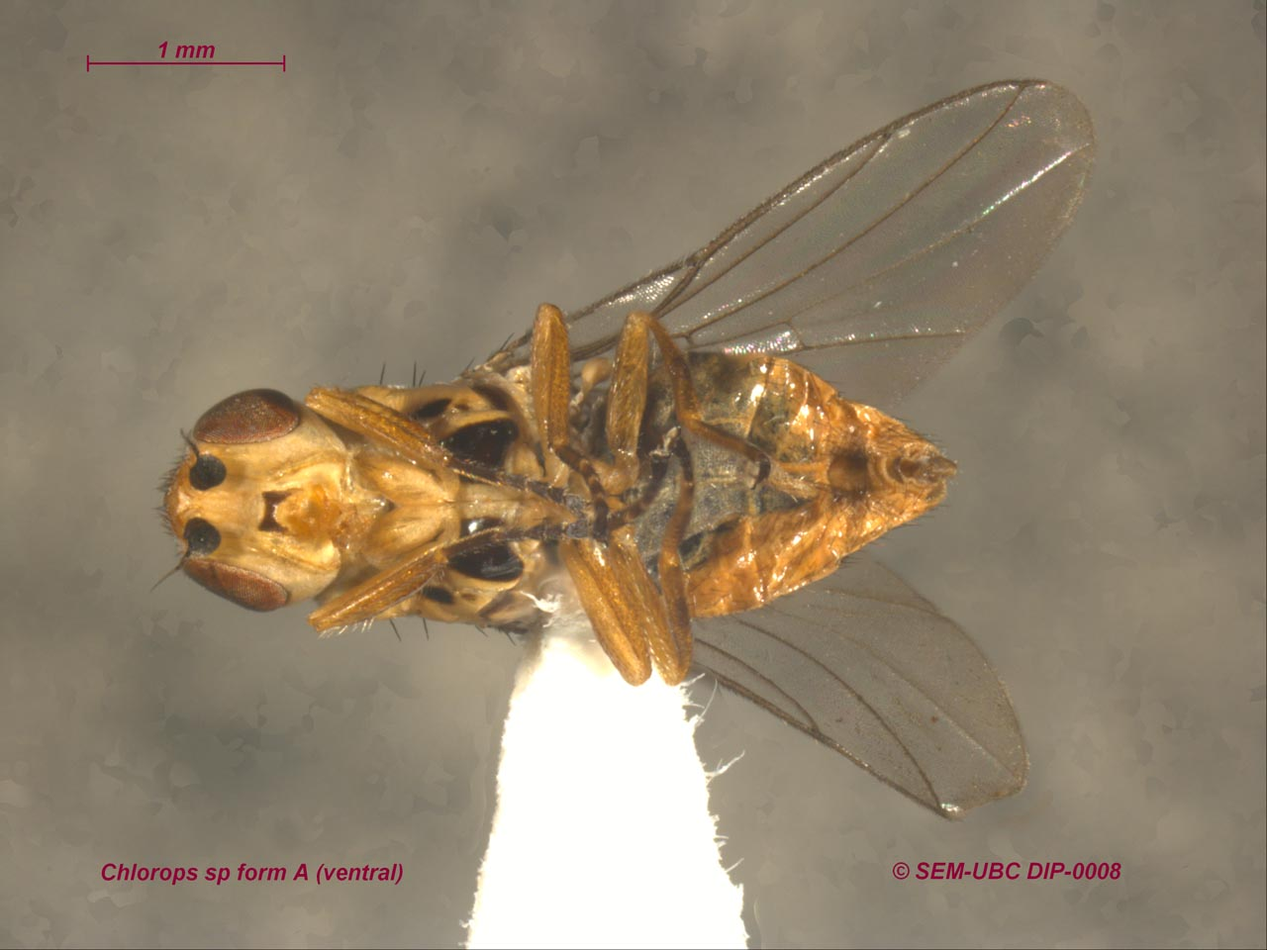Chloropidae: (148, 69, 1101, 816)
